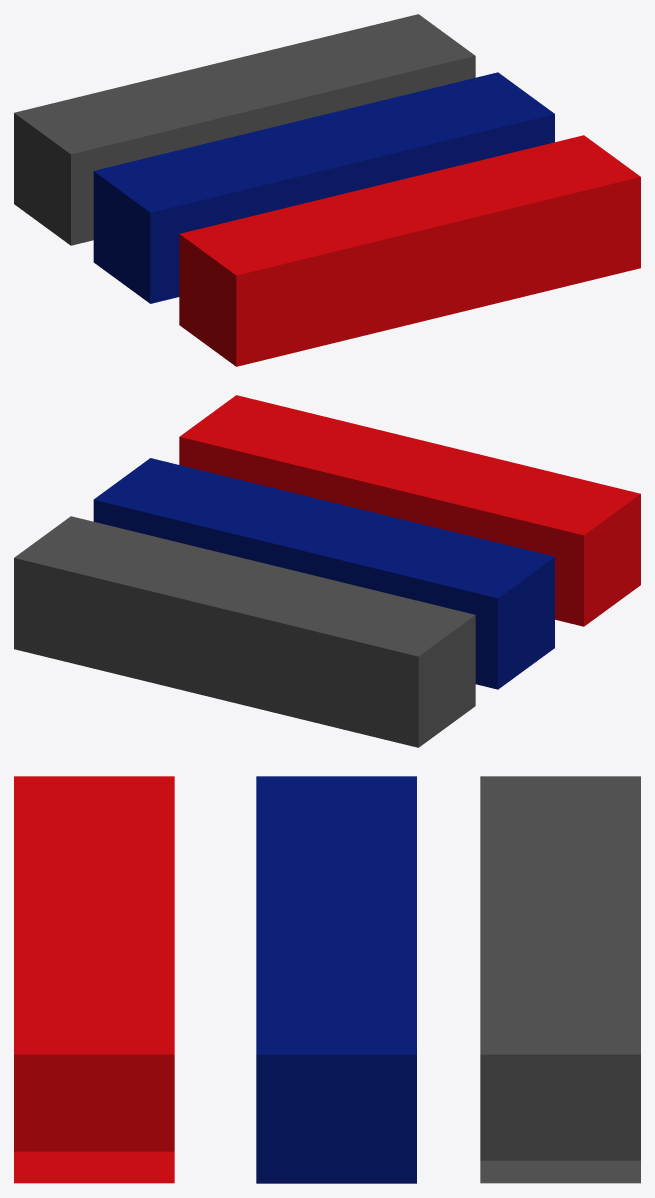
File: object_16_lev3.glb
The picture shows the model from 3 angles, top to bottom: view 1: azimuth 30°, elevation 25°; view 2: azimuth 150°, elevation 25°; view 3: azimuth 270°, elevation 25°; orthographic projection. The views are drawn at different scales.
Visible parts, largest first — view 1: object_16_lev3; view 2: object_16_lev3; view 3: object_16_lev3.
Boxes of the visible parts, x1,y1,x2,y2 form: object_16_lev3: [14, 14, 640, 366]; object_16_lev3: [14, 395, 640, 747]; object_16_lev3: [14, 776, 640, 1183].
Size of the model in its own units: 2.47 by 0.533 by 2.35.
1 material, 1 textured.
